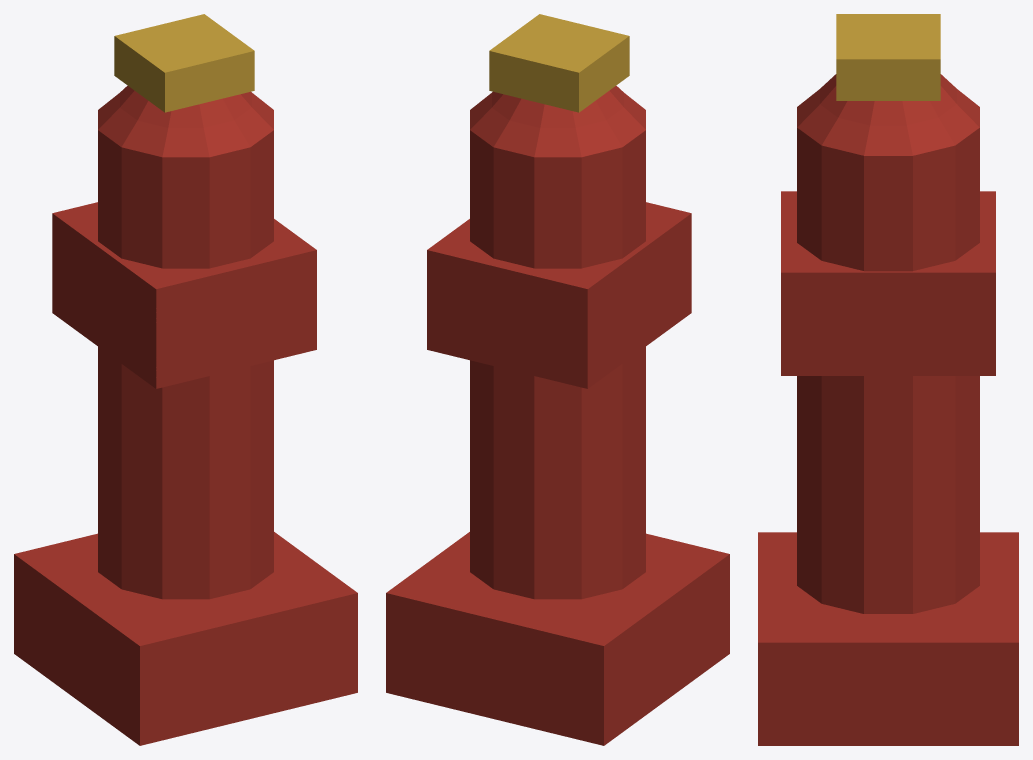
The model's file is fire_hydrant.gltf.
3 views of the same model, side by side, from view 1: azimuth 30°, elevation 25°; view 2: azimuth 150°, elevation 25°; view 3: azimuth 270°, elevation 25° (orthographic). The views are drawn at different scales.
Visible parts, largest first — view 1: cube (×3), cylinder (×2); view 2: cube (×3), cylinder (×2); view 3: cube (×3), cylinder (×2).
Part boxes in pixels (<box>): cube (×3): <box>14,14,357,745</box>; cylinder (×2): <box>98,85,273,599</box>; cube (×3): <box>386,14,729,745</box>; cylinder (×2): <box>470,85,645,599</box>; cube (×3): <box>758,14,1018,745</box>; cylinder (×2): <box>797,74,979,613</box>.
Bounding box in the file's own units: 0.125 × 0.3453 × 0.125.
Materials: 2 (2 with a texture image).
